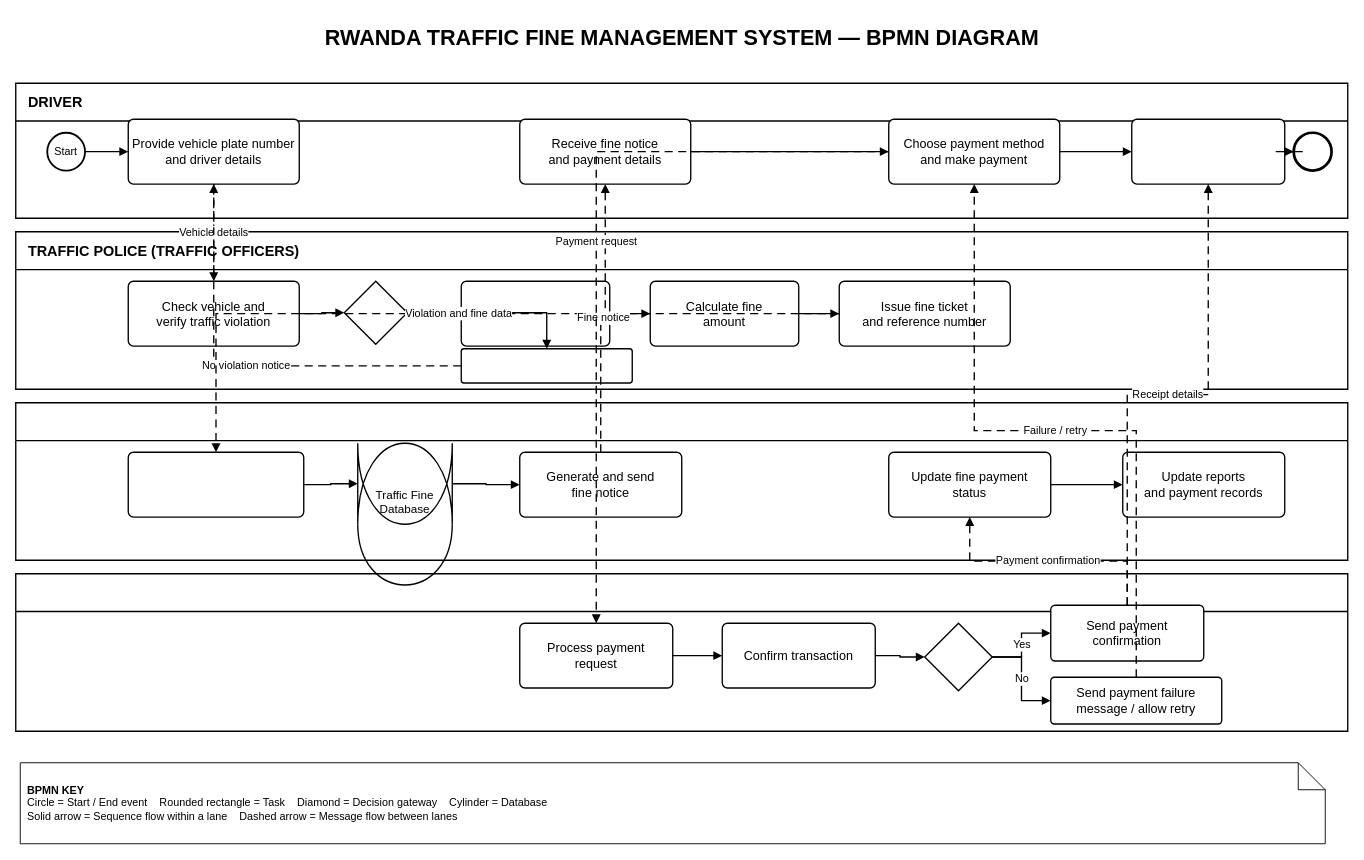
The diagram is 1364 pixels wide and 860 high, and some of its shapes have lost their labels. The box of each missing label's shape, as (x1, y1, x2, y2) in pixels:
End: (1292, 131, 1332, 171)
Inform driver: no violation and close case: (460, 348, 633, 383)
PAYMENT GATEWAY / BANK: (15, 573, 1348, 732)
Payment successful?: (924, 622, 993, 691)
Receive payment receipt: (1131, 118, 1285, 184)
Record violation and evidence: (460, 280, 610, 346)
Save violation and fine details in database: (127, 451, 304, 517)
TRAFFIC FINE SYSTEM: (15, 402, 1348, 561)
Violation found?: (343, 280, 408, 345)
